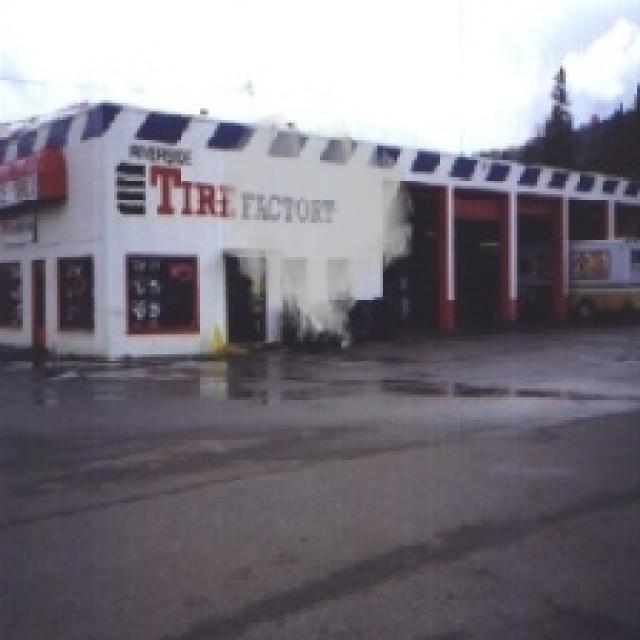Smoke: (217, 108, 417, 352)
